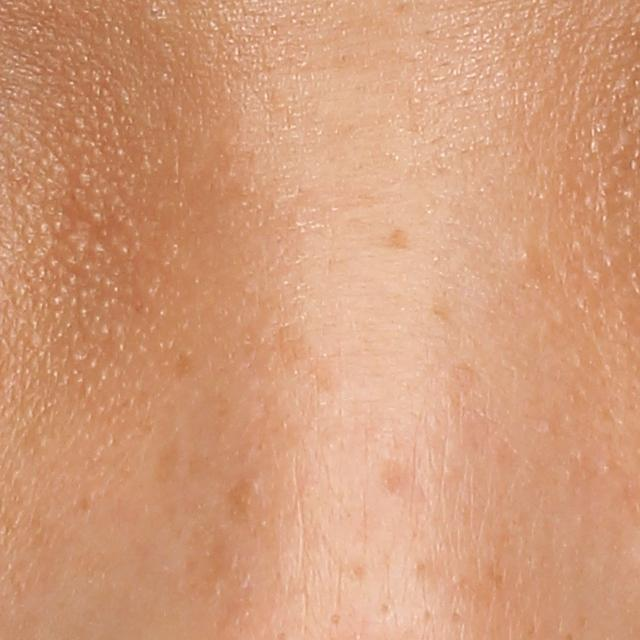comedo: (518, 246, 537, 266)
melasma: (190, 536, 231, 604), (220, 476, 249, 523), (149, 444, 175, 482), (380, 223, 413, 252), (166, 346, 190, 377)
